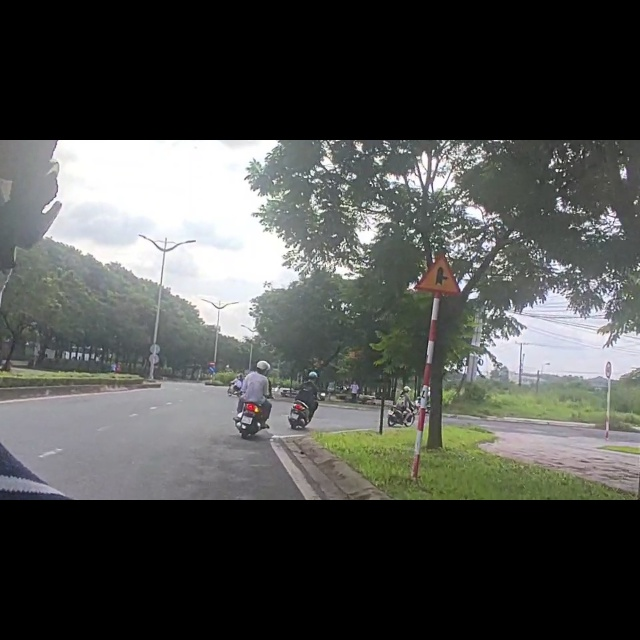Giao nhau với đường không ưu tiên: (412, 253, 461, 297)
